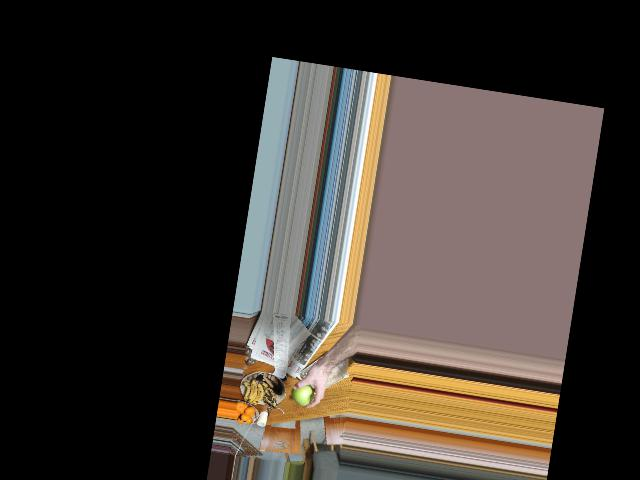apple: (291, 381, 315, 408)
